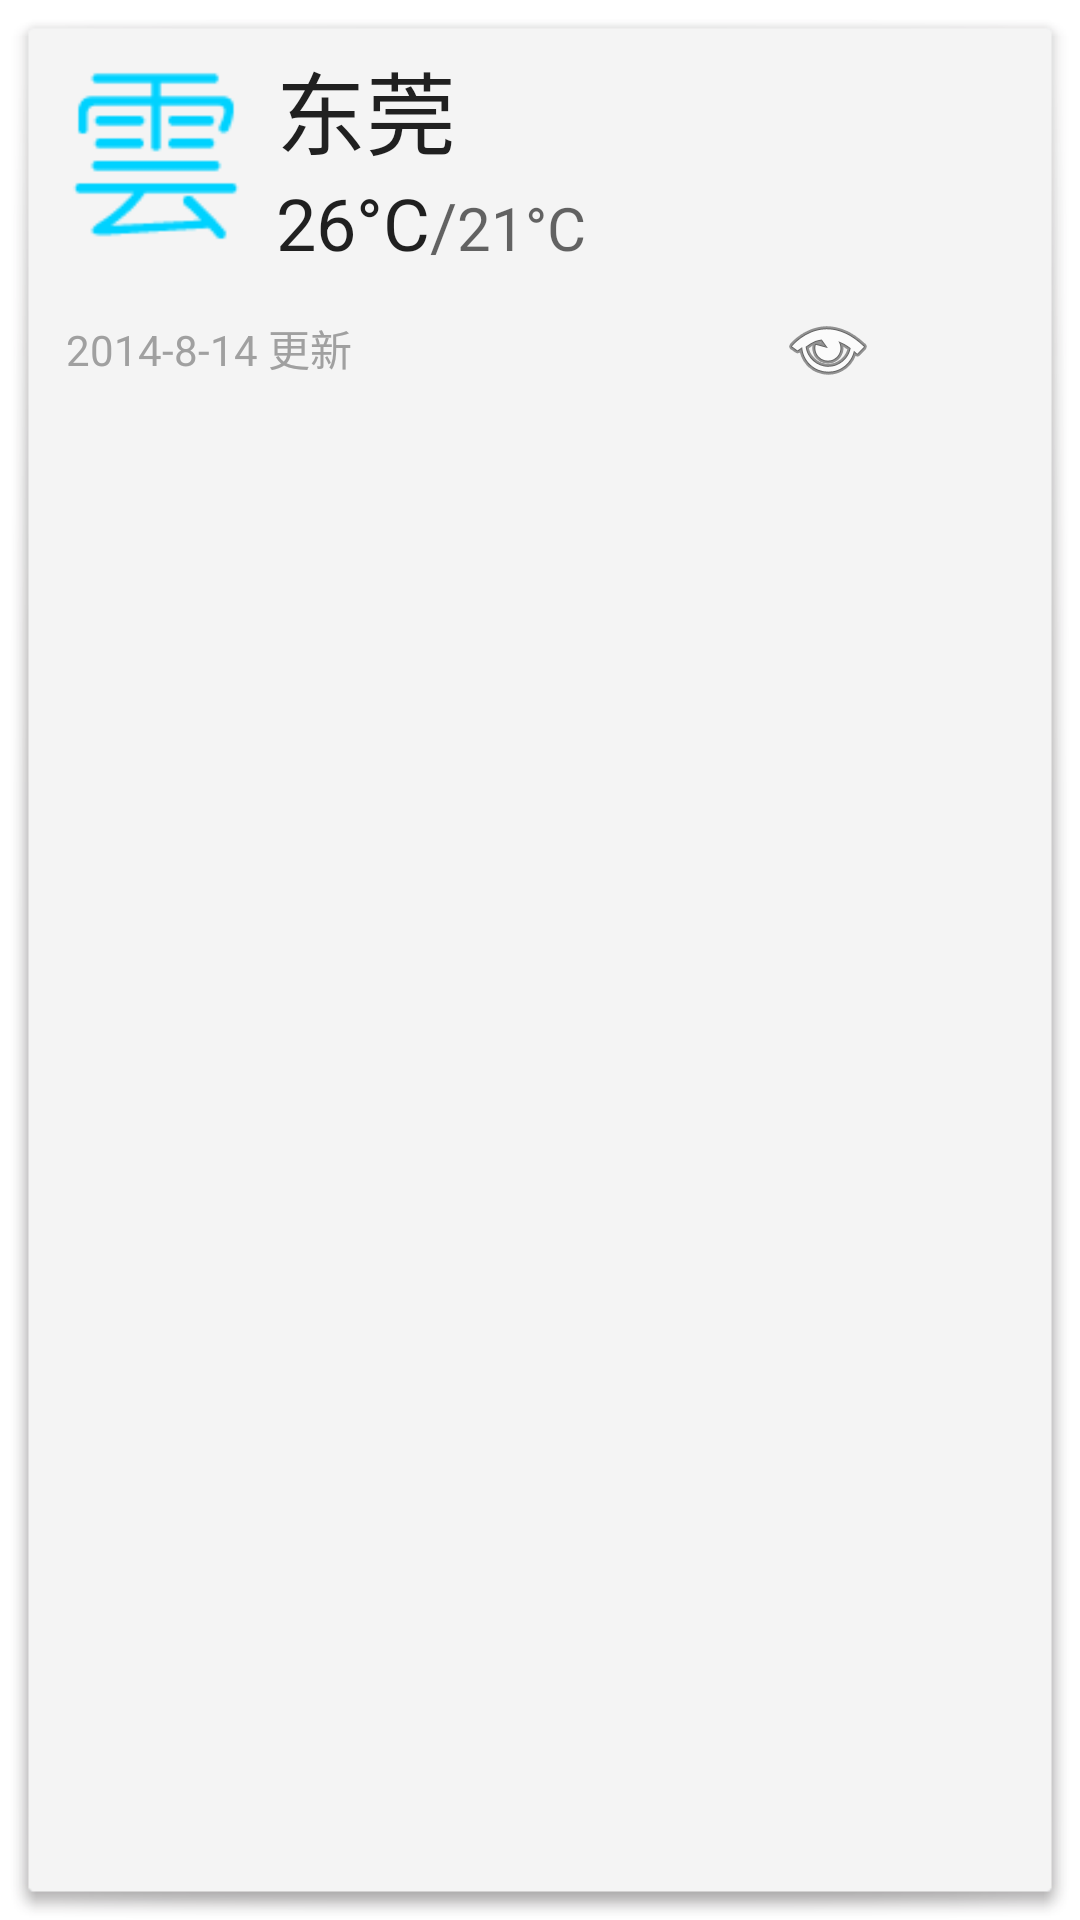

Named icons in this screenshot (1080×1920) and their centers, (x=x, y=y):
view: (x=828, y=350)
